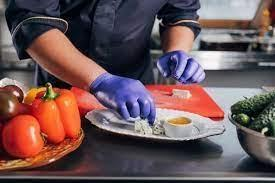apron: (86, 66, 156, 124), (156, 50, 208, 85)
